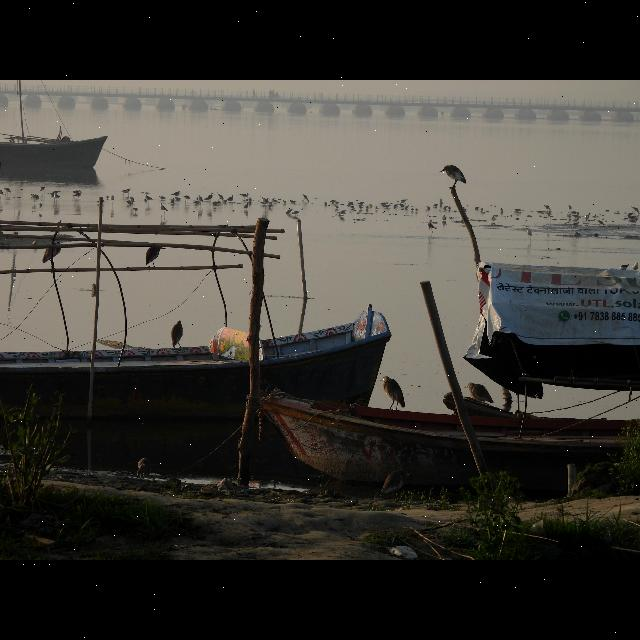heron: (377, 371, 405, 411), (462, 379, 494, 405), (438, 163, 468, 189), (167, 317, 187, 351), (142, 242, 168, 268)
